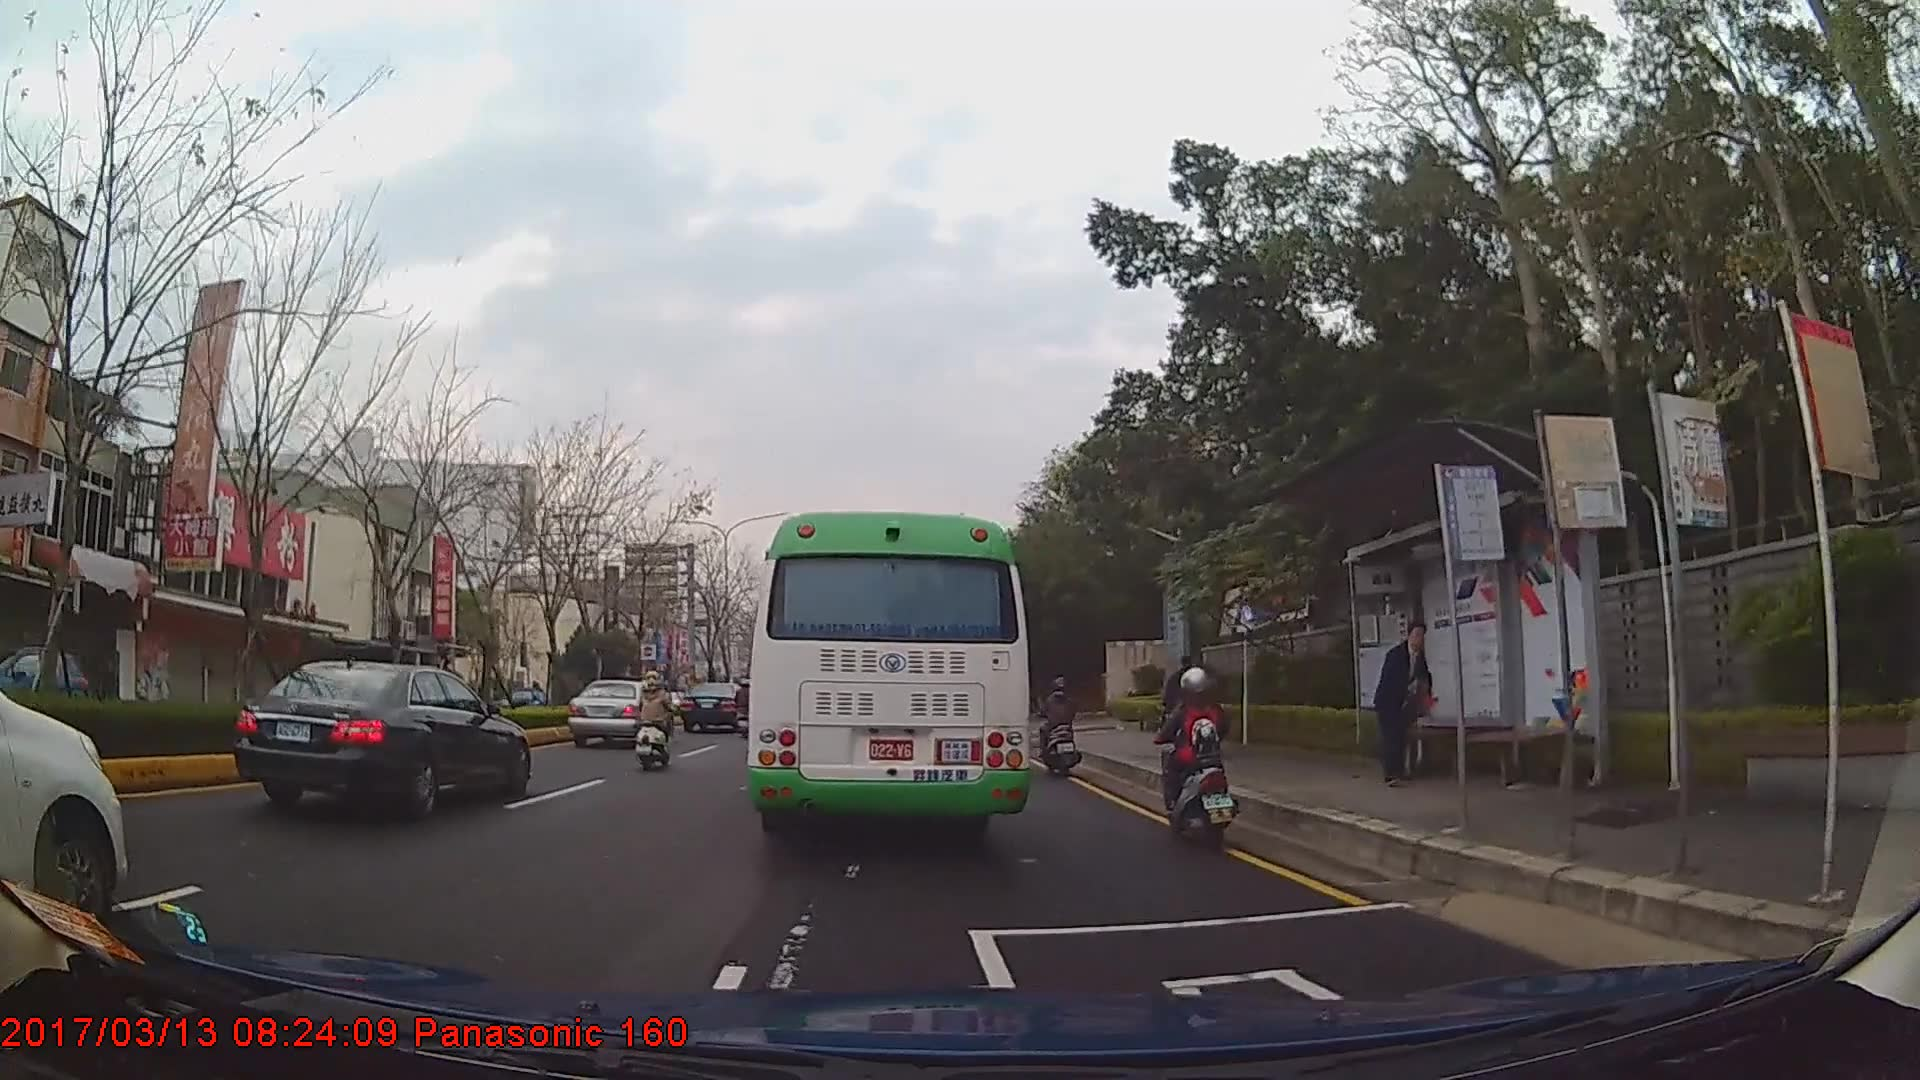pedestrian: (1378, 618, 1439, 788), (1156, 649, 1206, 754)
rider: (1151, 665, 1244, 842), (1037, 672, 1083, 778), (639, 670, 679, 765), (736, 679, 759, 740)
vehicle: (747, 509, 1027, 843), (230, 657, 530, 810), (0, 639, 91, 738), (568, 678, 667, 749), (679, 678, 747, 732)
